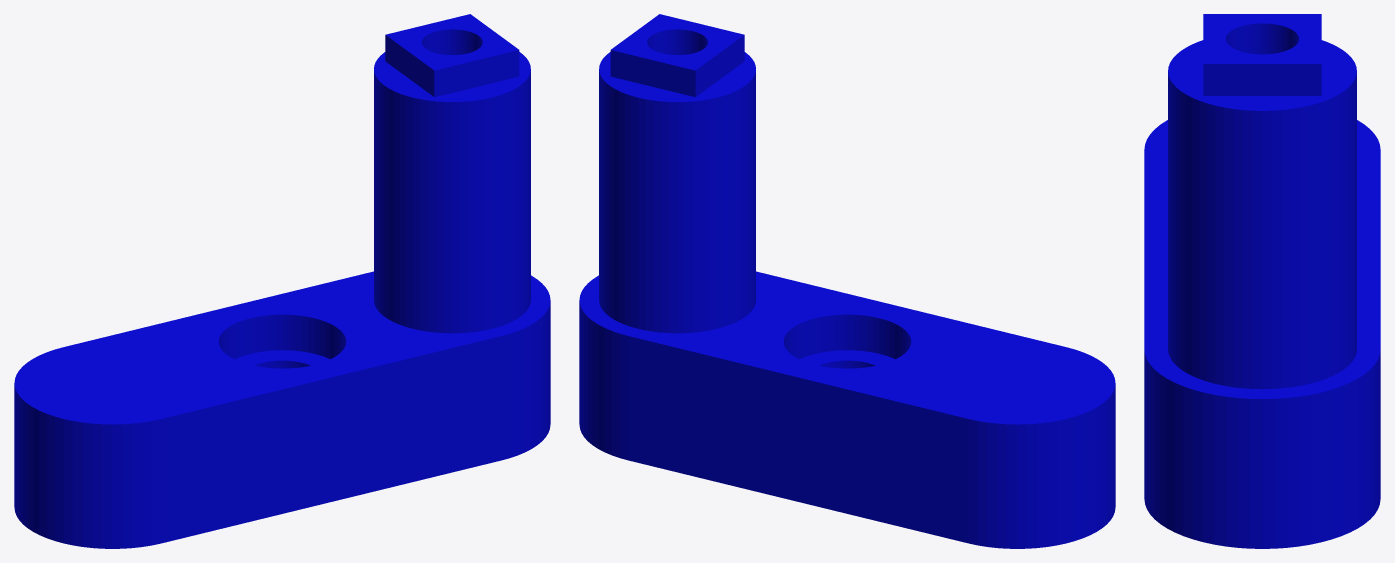
The model's file is axe-drive_PCBWay Community.003.dae.
3 views of the same model, side by side, from view 1: azimuth 30°, elevation 25°; view 2: azimuth 150°, elevation 25°; view 3: azimuth 270°, elevation 25° (orthographic). The views are drawn at different scales.
Visible parts, largest first — view 1: tmp_export_axe-drive_PCBWay Community.003; view 2: tmp_export_axe-drive_PCBWay Community.003; view 3: tmp_export_axe-drive_PCBWay Community.003.
Part boxes in pixels (box(x1,y1,x2,y2)): tmp_export_axe-drive_PCBWay Community.003: box(14, 14, 550, 548); tmp_export_axe-drive_PCBWay Community.003: box(579, 14, 1115, 548); tmp_export_axe-drive_PCBWay Community.003: box(1144, 14, 1380, 548).
Bounding box in the file's own units: 0.03 × 0.01 × 0.0215.
